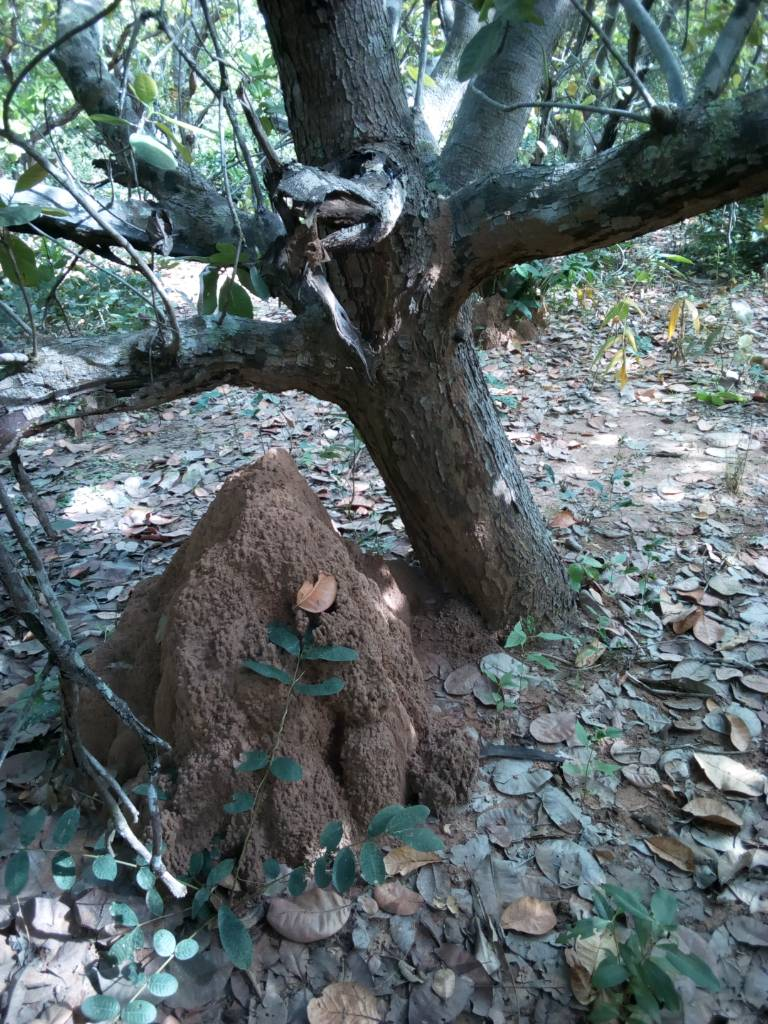Termites: (175, 472, 408, 807), (406, 324, 532, 625)
